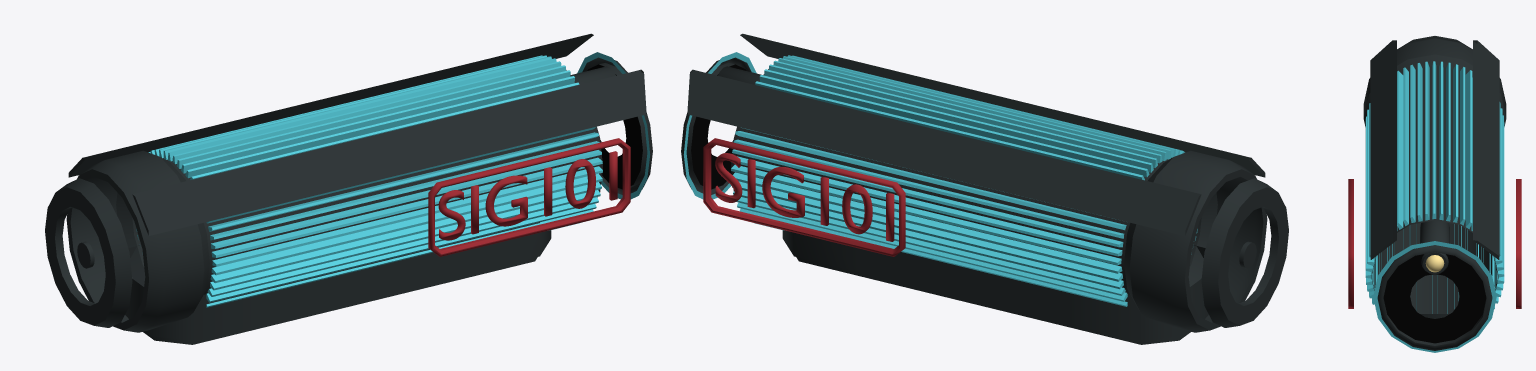
File: fant_camera.obj
3 renders of one model, left to right at view 1: azimuth 30°, elevation 25°; view 2: azimuth 150°, elevation 25°; view 3: azimuth 270°, elevation 25°, orthographic. The views are drawn at different scales.
Parts seen in each view (by area): view 1: fant_camera_Cylinder; view 2: fant_camera_Cylinder; view 3: fant_camera_Cylinder.
Boxes of the visible parts, box(x1,y1,x2,y2) form: fant_camera_Cylinder: box(45, 33, 652, 344); fant_camera_Cylinder: box(681, 33, 1288, 344); fant_camera_Cylinder: box(1348, 36, 1521, 352).
Bounding box in the file's own units: 3.25 × 0.9942 × 0.9973.
